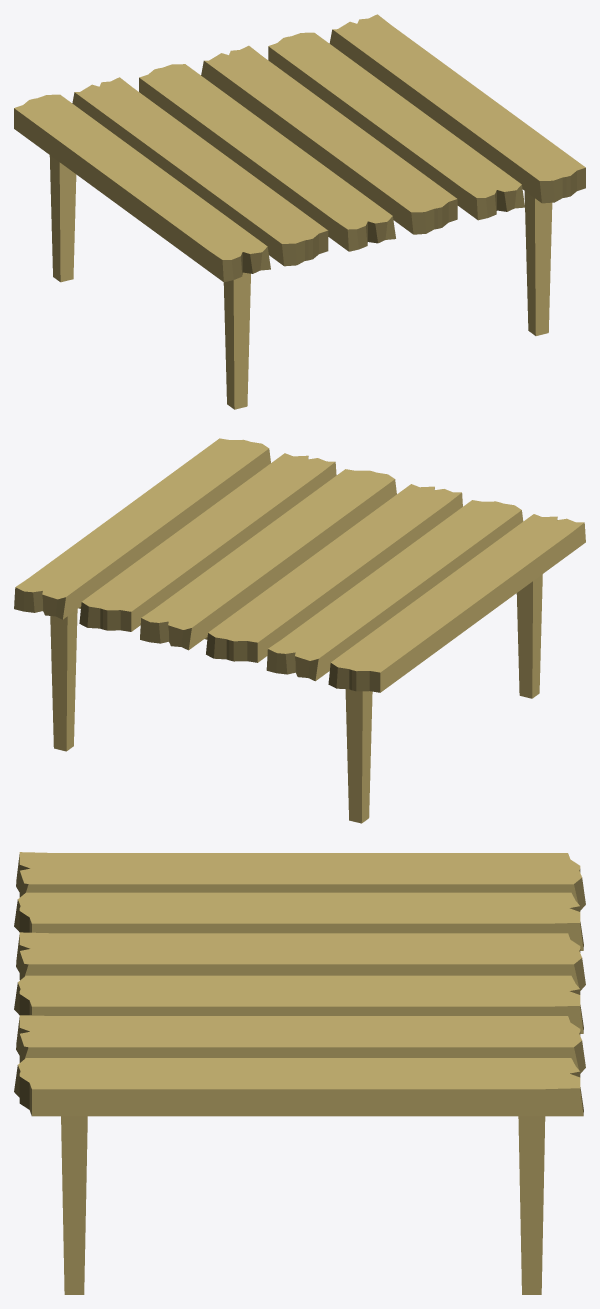
Rendered from Floor_wooden 1.fbx.
3 views of the same model, one above another, from view 1: azimuth 30°, elevation 25°; view 2: azimuth 150°, elevation 25°; view 3: azimuth 270°, elevation 25° (orthographic). The views are drawn at different scales.
Visible parts, largest first — view 1: Cube.1214; view 2: Cube.1214; view 3: Cube.1214.
Boxes of the visible parts, x1,y1,x2,y2 form: Cube.1214: (14,14,585,409); Cube.1214: (14,438,585,823); Cube.1214: (14,852,585,1294).
Size of the model in its own units: 7329 by 3221 by 7502.
